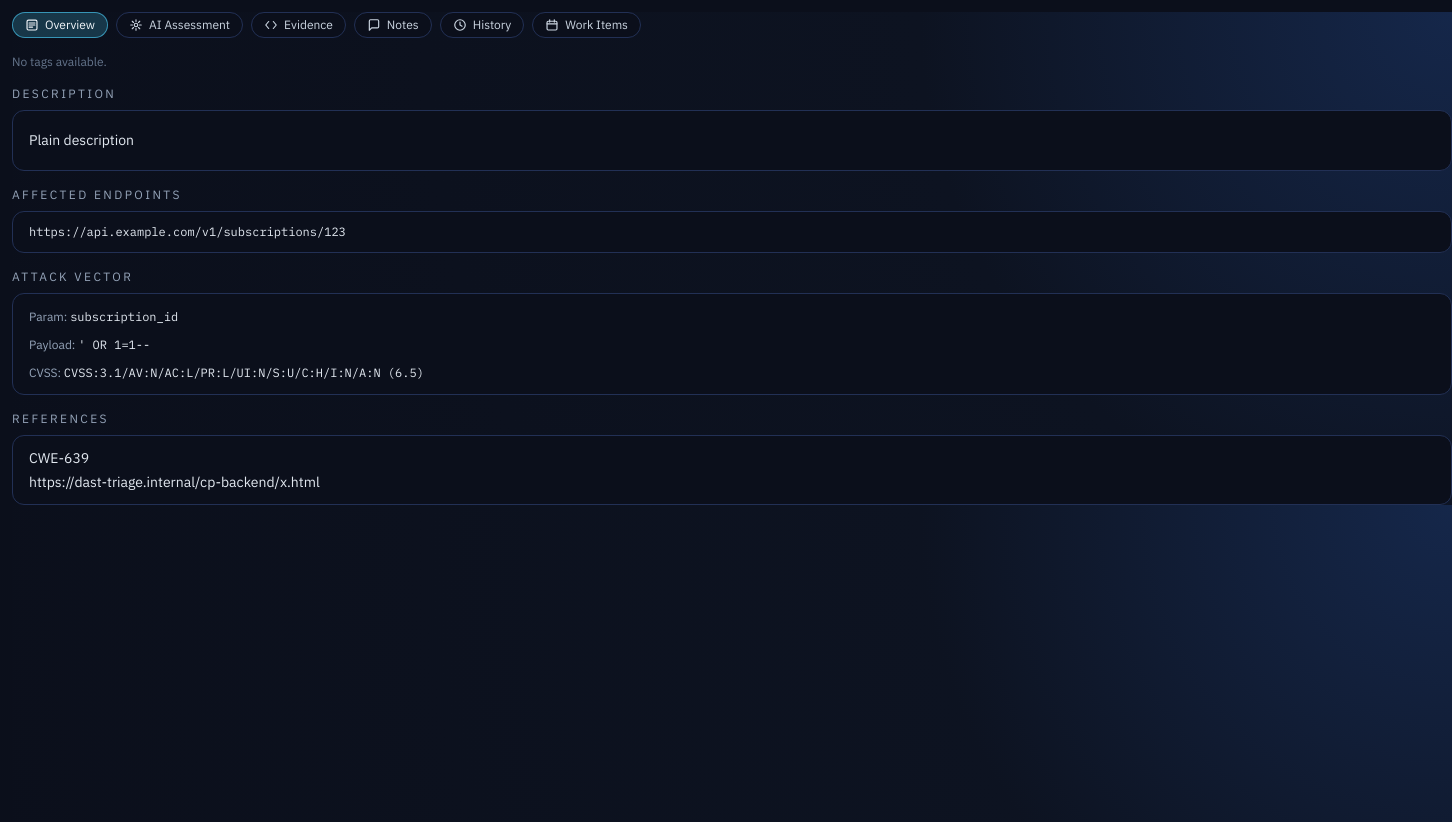
Test case: FindingDetailTabs — DAST finding view › falls back to safe prose rendering when steps_to_reproduce isn't the numbered-step convention
Click the button "Evidence": (298,25) x1=251 y1=12 x2=346 y2=38
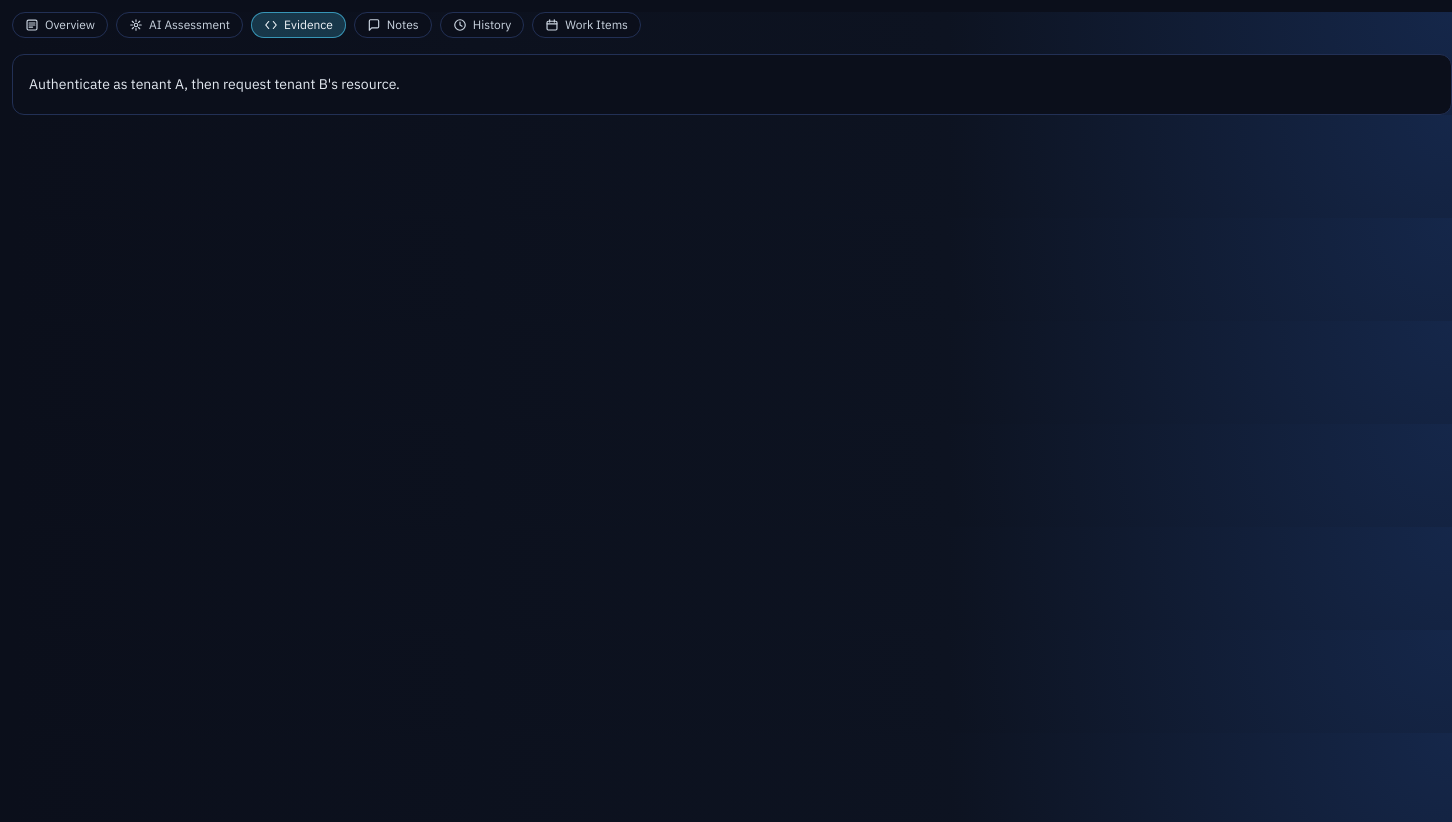
Check: the text "Authenticate as tenant A, then request tenant B's resource." is shown, box x1=29 y1=75 x2=400 y2=93
